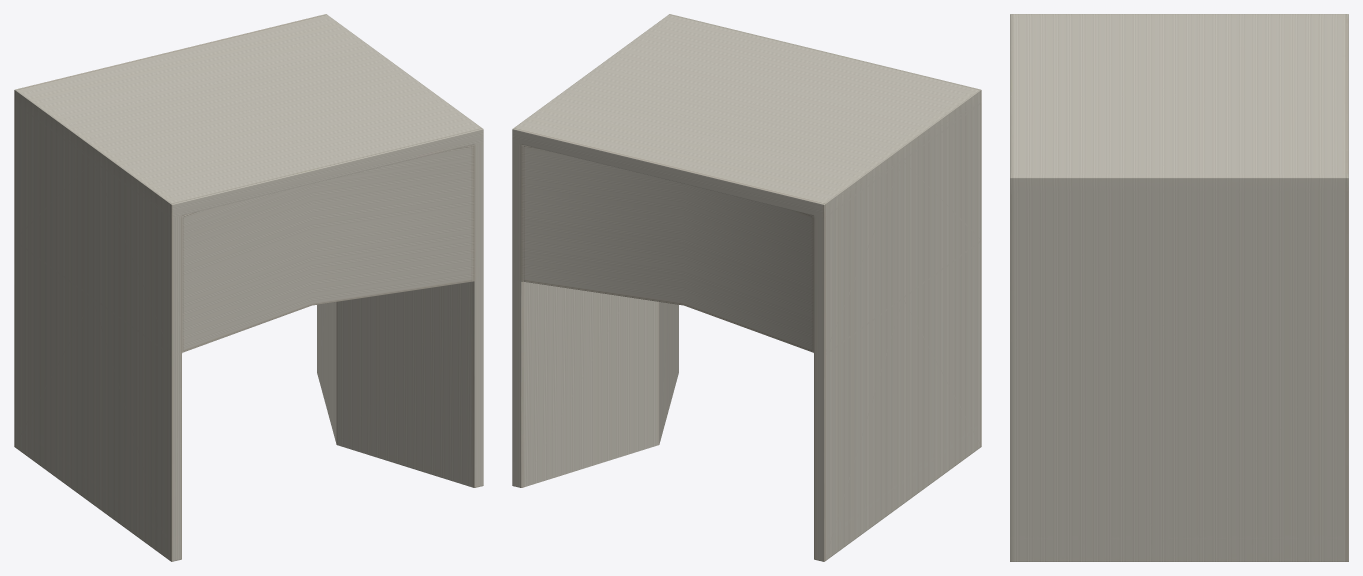
Rendered from mataro_white_nighstand_with_drawer.glb.
3 renders of one model, left to right at view 1: azimuth 30°, elevation 25°; view 2: azimuth 150°, elevation 25°; view 3: azimuth 270°, elevation 25°, orthographic. The views are drawn at different scales.
Parts seen in each view (by area): view 1: e3ab5dcf-7d60-4497-86de-30ca2b8292a3; view 2: e3ab5dcf-7d60-4497-86de-30ca2b8292a3; view 3: e3ab5dcf-7d60-4497-86de-30ca2b8292a3.
Part boxes in pixels (bbox=[...]): e3ab5dcf-7d60-4497-86de-30ca2b8292a3: bbox=[14, 14, 483, 561]; e3ab5dcf-7d60-4497-86de-30ca2b8292a3: bbox=[512, 14, 981, 561]; e3ab5dcf-7d60-4497-86de-30ca2b8292a3: bbox=[1010, 14, 1348, 561].
Bounding box in the file's own units: 55.3 × 60.48 × 48.32.
Materials: 1 (1 with a texture image).
